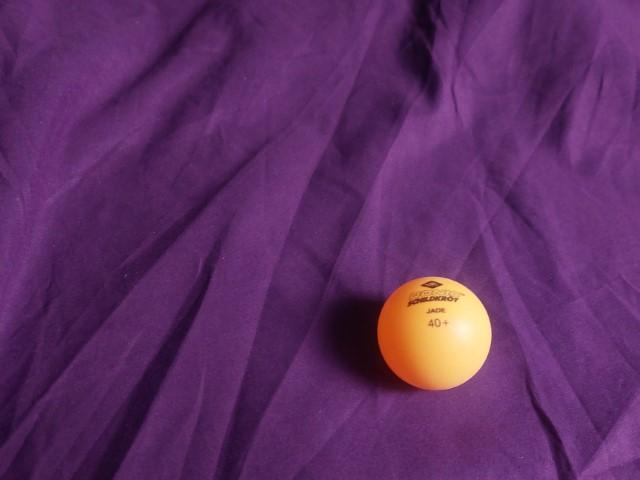oball: (368, 262, 508, 397)
